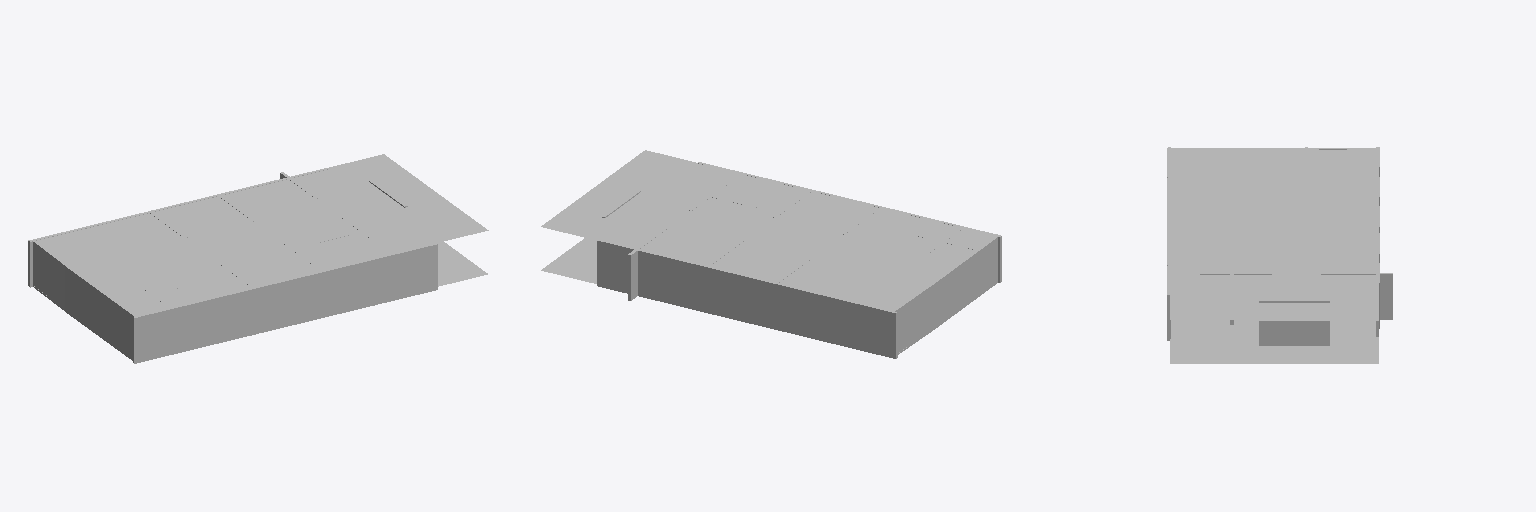
File: Room.obj
3 views of the same model, side by side, from view 1: azimuth 30°, elevation 25°; view 2: azimuth 150°, elevation 25°; view 3: azimuth 270°, elevation 25° (orthographic).
Parts seen in each view (by area): view 1: Plane.003_Plane.006, Plane.002_Plane.004, Cube.018_Cube.026, Cube.001_Cube.008, Cube.002_Cube.005, Cube.003_Cube.009, Cube.016_Cube.025, Cube.012_Cube.017, Cube.011_Cube.018, Cube.010_Cube.016, Plane.001; view 2: Plane.003_Plane.006, Plane.002_Plane.004, Cube.004_Cube.010, Cube.009_Cube.024, Cube.006_Cube.011, Cube.005_Cube.012, Cube.007_Cube.023, Cube.012_Cube.017, Cube.010_Cube.016, Cube.011_Cube.018, Plane.001, Cube.022_Cube.031; view 3: Plane.003_Plane.006, Plane.002_Plane.004, Plane.001, Cube.023_Cube.032, Cube.022_Cube.031.
Boxes of the visible parts, <box> form: Plane.003_Plane.006: <box>37,197,317,315</box>; Plane.002_Plane.004: <box>217,154,488,270</box>; Cube.018_Cube.026: <box>374,243,437,304</box>; Cube.001_Cube.008: <box>195,287,257,348</box>; Cube.002_Cube.005: <box>255,272,317,333</box>; Cube.003_Cube.009: <box>133,302,196,363</box>; Cube.016_Cube.025: <box>314,258,376,318</box>; Cube.012_Cube.017: <box>65,266,103,336</box>; Cube.011_Cube.018: <box>100,292,139,363</box>; Cube.010_Cube.016: <box>33,241,68,310</box>; Plane.001: <box>437,242,487,286</box>; Plane.003_Plane.006: <box>712,192,994,310</box>; Plane.002_Plane.004: <box>541,150,818,267</box>; Cube.004_Cube.010: <box>835,297,897,358</box>; Cube.009_Cube.024: <box>659,254,719,315</box>; Cube.006_Cube.011: <box>775,283,834,343</box>; Cube.005_Cube.012: <box>714,267,776,329</box>; Cube.007_Cube.023: <box>597,239,658,300</box>; Cube.012_Cube.017: <box>928,260,964,332</box>; Cube.010_Cube.016: <box>891,286,930,354</box>; Cube.011_Cube.018: <box>963,234,999,306</box>; Plane.001: <box>541,238,596,283</box>; Cube.022_Cube.031: <box>628,228,666,300</box>; Plane.003_Plane.006: <box>1171,149,1375,237</box>; Plane.002_Plane.004: <box>1170,232,1378,320</box>; Plane.001: <box>1170,320,1378,363</box>; Cube.023_Cube.032: <box>1259,300,1329,345</box>; Cube.022_Cube.031: <box>1321,273,1392,319</box>.
Bounding box in the file's own units: 11.47 × 1.45 × 6.31.